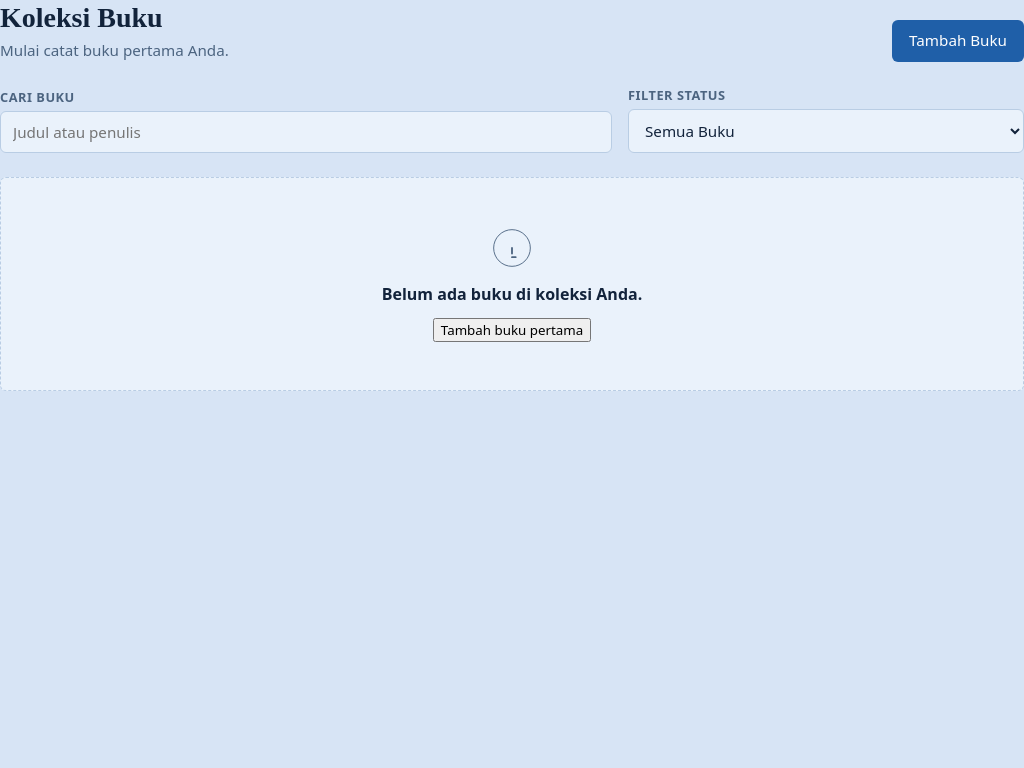
Test case: Home — form tambah buku › menambahkan buku baru dengan input yang valid
This screenshot has width=1024, height=768.
Click the button "Tambah Buku" at x=958, y=41, box [892,20,1023,62]
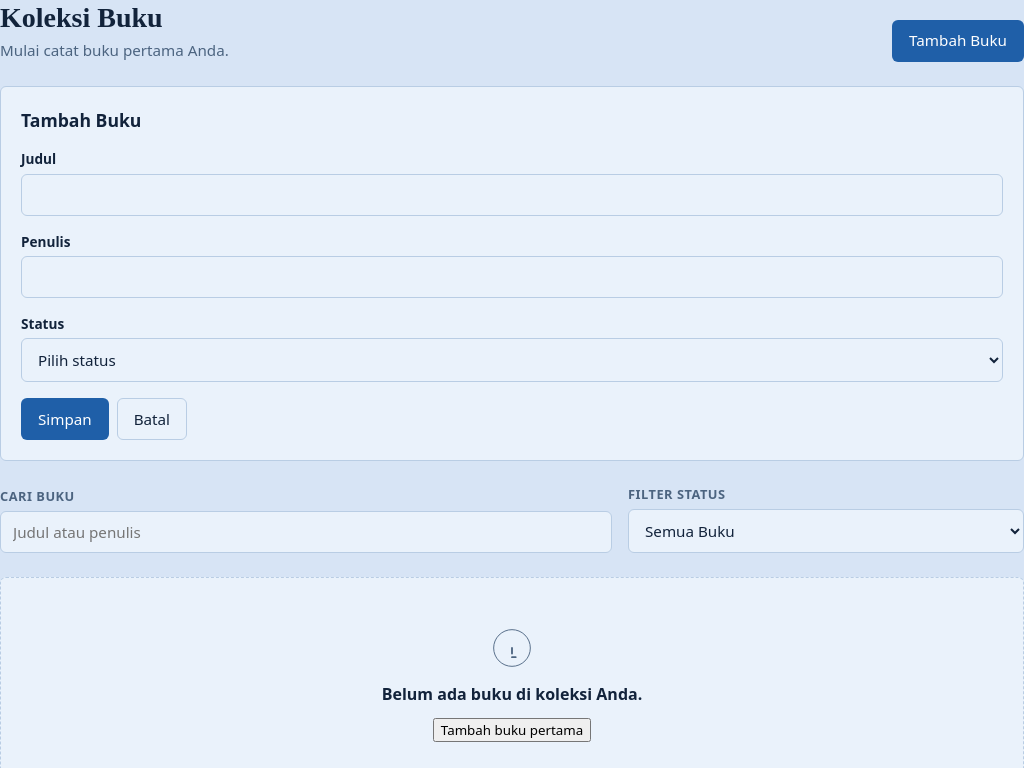
Type "Bumi Tak Tidur" into the field labelled "Judul" at x=512, y=195, box [21,174,1003,216]
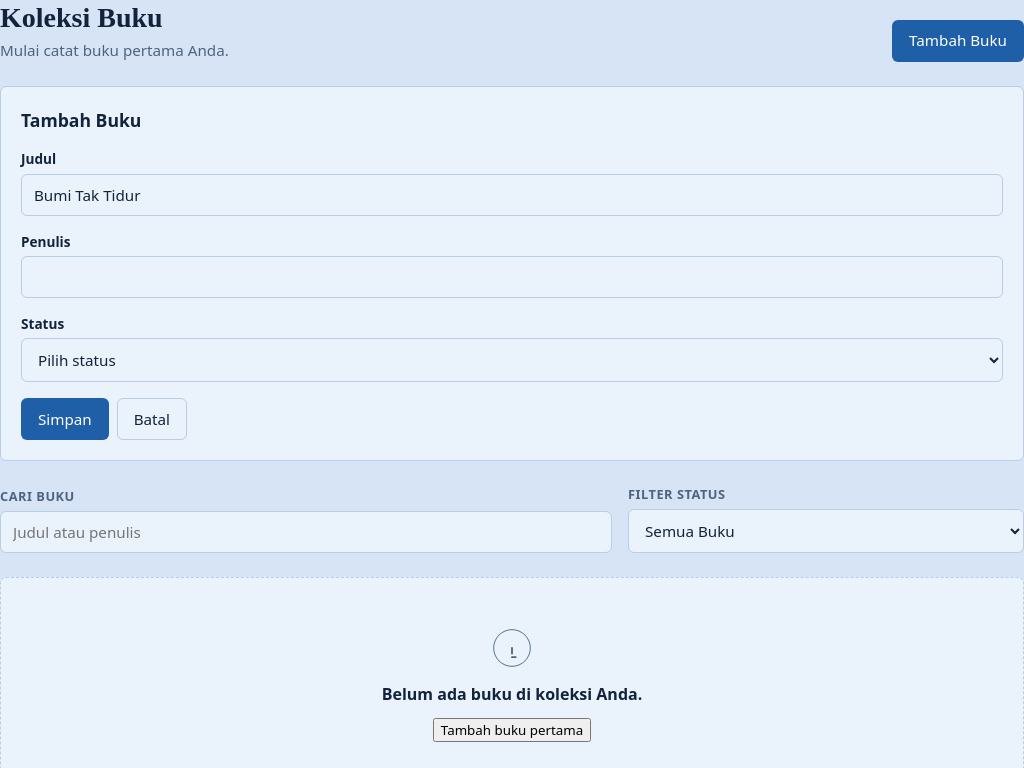
Type "Makara Jaya" into the field labelled "Penulis" at x=512, y=277, box [21,256,1003,298]
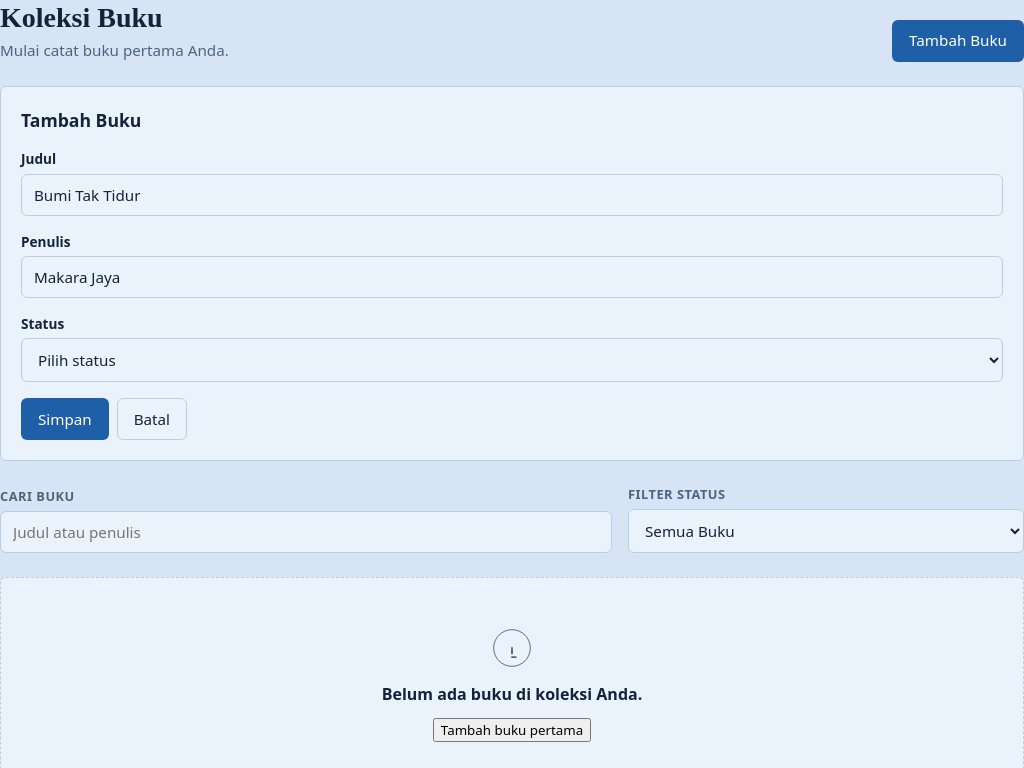
Select "Sedang Dibaca" in the dropdown labelled "Status" at x=512, y=360, box [21,338,1003,382]
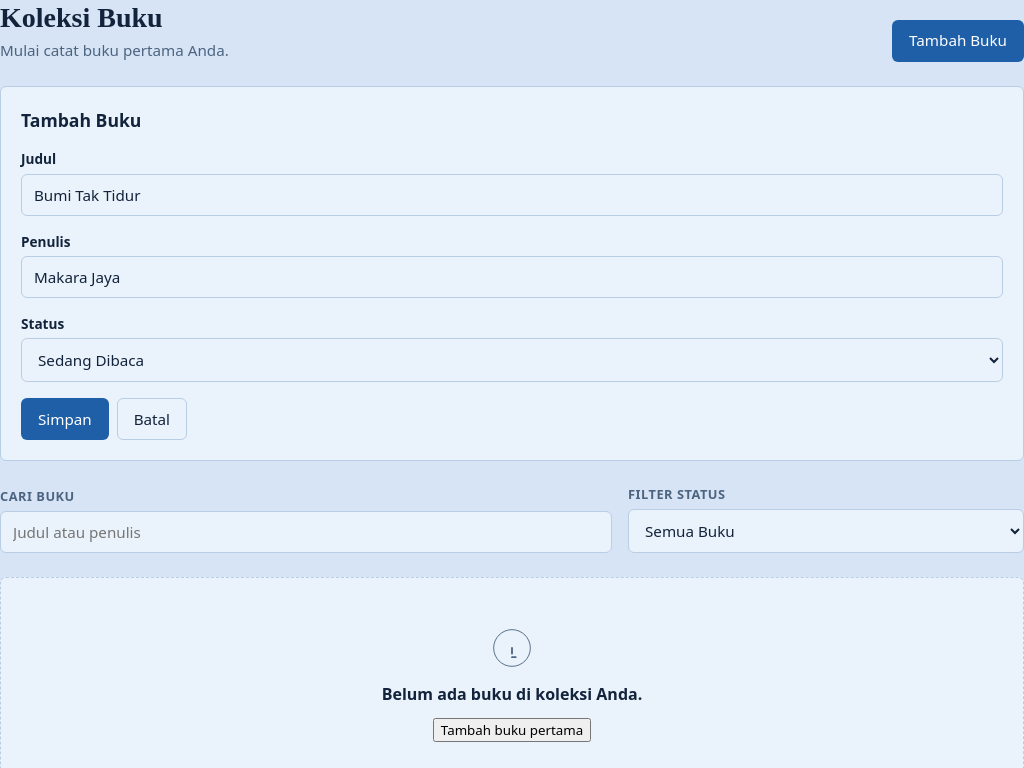
Click the button "Simpan" at x=65, y=419, box [21,398,109,440]
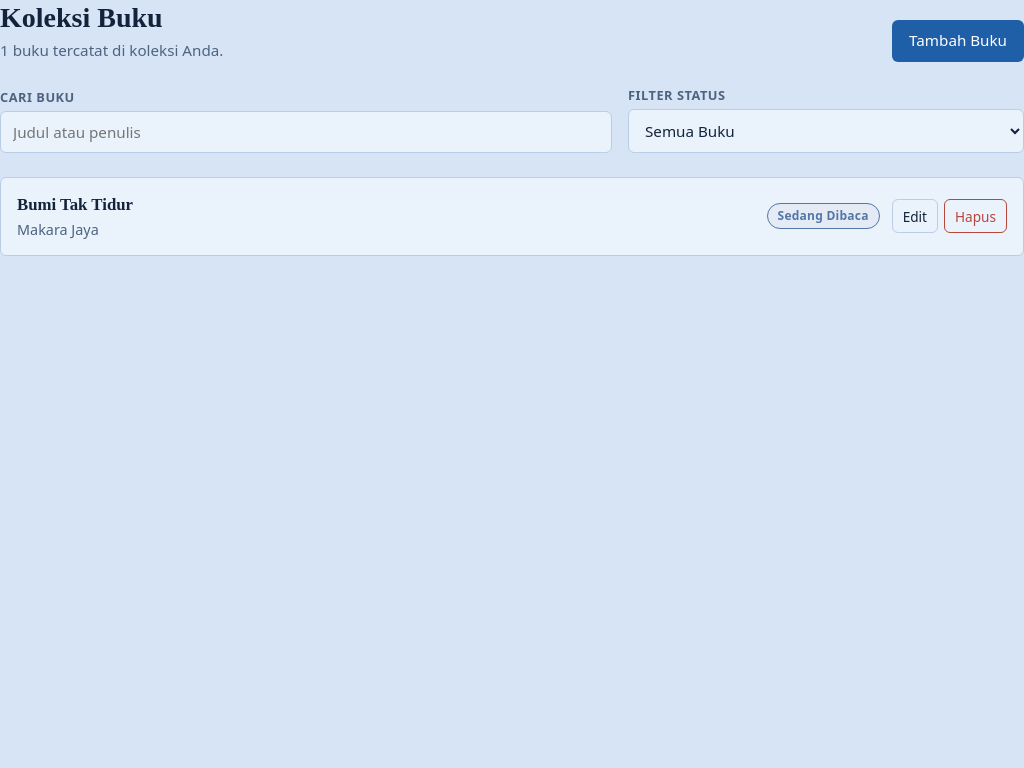
Check: the heading "Bumi Tak Tidur" is shown, box [17,195,133,214]
Check: the text "Makara Jaya" is shown, box [17,220,99,239]
Check: the text "Sedang Dibaca" is shown, box [767,203,880,229]
